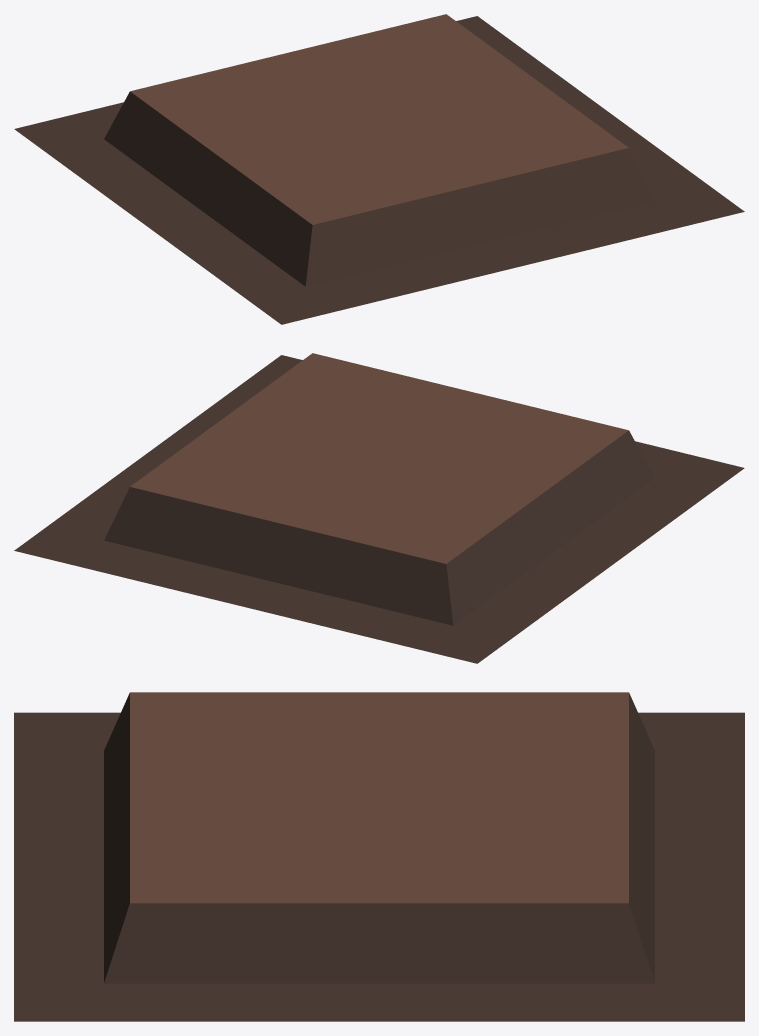
Rendered from LPHorror_Cieling1.fbx.
The picture shows the model from 3 angles, top to bottom: view 1: azimuth 30°, elevation 25°; view 2: azimuth 150°, elevation 25°; view 3: azimuth 270°, elevation 25°; orthographic projection. The views are drawn at different scales.
Visible parts, largest first — view 1: Cieling1; view 2: Cieling1; view 3: Cieling1.
Boxes of the visible parts, left/top/right/bottom form: Cieling1: left=14, top=14, right=744, bottom=324; Cieling1: left=14, top=353, right=744, bottom=663; Cieling1: left=14, top=692, right=744, bottom=1021.
Bounding box in the file's own units: 200 × 20.97 × 200.
